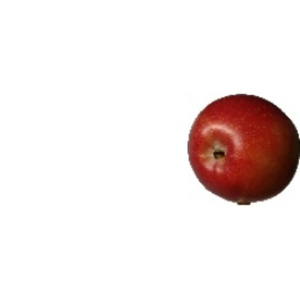maçã braeburn: (184, 92, 300, 202)
